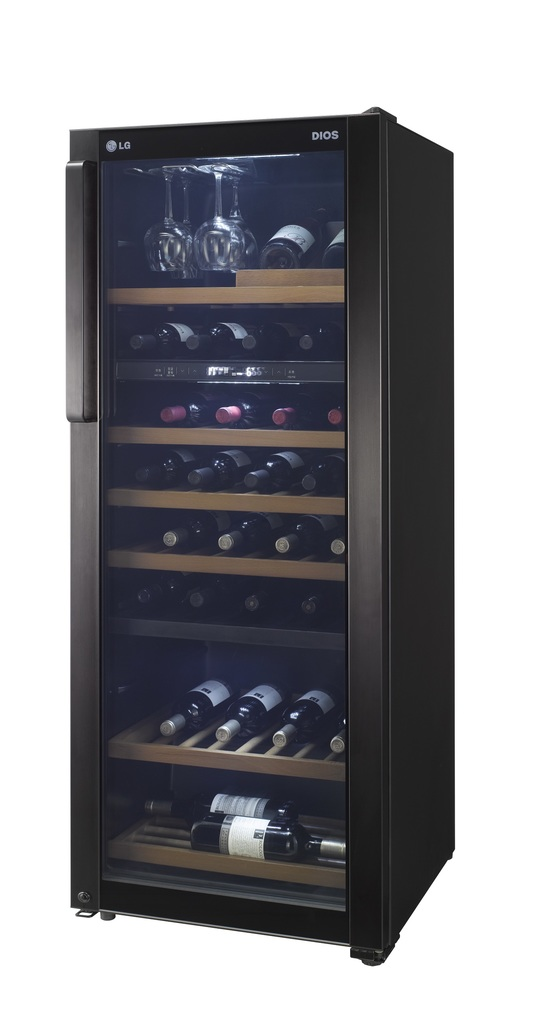handle: (67, 162, 91, 421)
refrigerator door: (71, 144, 364, 906)
